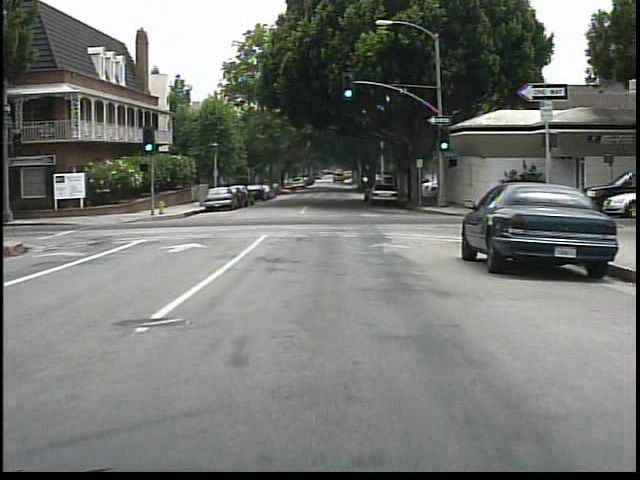person: (518, 170, 544, 216)
